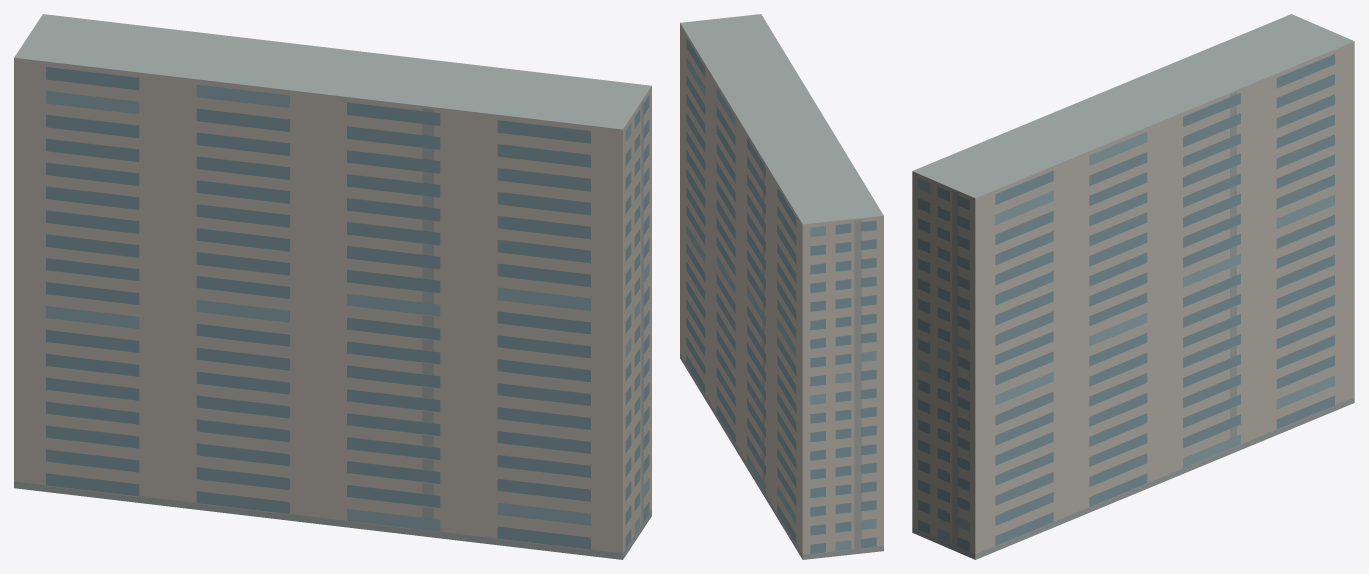
Rendered from residential-dd2832c1-6ab5-4b02-93aa-3b96aec5a979.glb.
3 renders of one model, left to right at view 1: azimuth 30°, elevation 25°; view 2: azimuth 150°, elevation 25°; view 3: azimuth 270°, elevation 25°, orthographic. The views are drawn at different scales.
Parts seen in each view (by area): view 1: residential-dd2832c1-6ab5-4b02-93aa-3b96aec5a979.tmp; view 2: residential-dd2832c1-6ab5-4b02-93aa-3b96aec5a979.tmp; view 3: residential-dd2832c1-6ab5-4b02-93aa-3b96aec5a979.tmp.
Boxes of the visible parts, x1,y1,x2,y2 form: residential-dd2832c1-6ab5-4b02-93aa-3b96aec5a979.tmp: [14, 14, 651, 559]; residential-dd2832c1-6ab5-4b02-93aa-3b96aec5a979.tmp: [680, 14, 883, 559]; residential-dd2832c1-6ab5-4b02-93aa-3b96aec5a979.tmp: [912, 14, 1354, 559].
Bounding box in the file's own units: 52.49 × 48 × 53.24.
